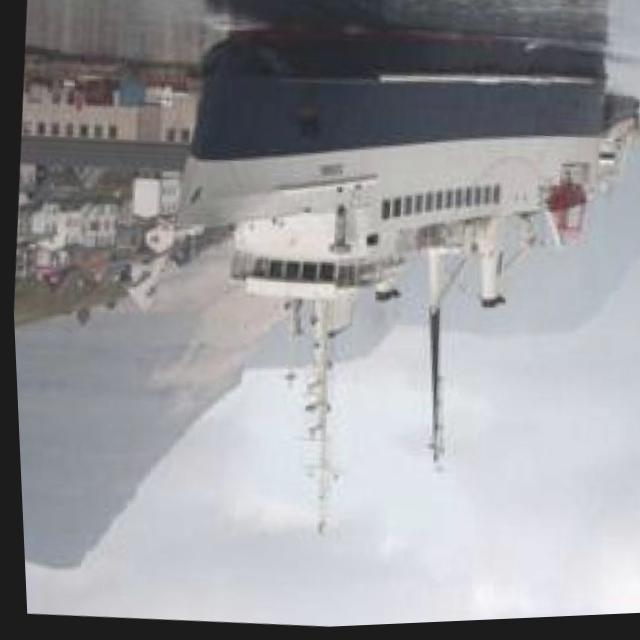ship2: (170, 32, 635, 534)
